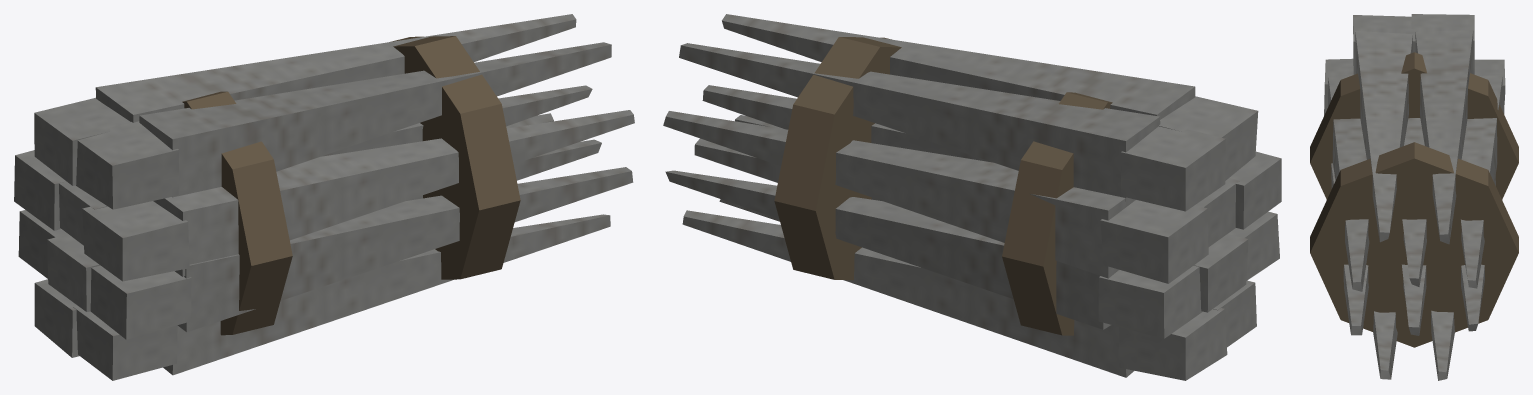
Rendered from needle_bundle.glb.
3 renders of one model, left to right at view 1: azimuth 30°, elevation 25°; view 2: azimuth 150°, elevation 25°; view 3: azimuth 270°, elevation 25°, orthographic. The views are drawn at different scales.
Parts seen in each view (by area): view 1: NeedleBundle; view 2: NeedleBundle; view 3: NeedleBundle.
Boxes of the visible parts, bbox=[...] form: NeedleBundle: bbox=[14, 14, 634, 380]; NeedleBundle: bbox=[663, 14, 1281, 380]; NeedleBundle: bbox=[1310, 14, 1518, 380].
Size of the model in its own units: 0.3601 by 0.1532 by 0.1512.
Materials: 2 (1 with a texture image).
